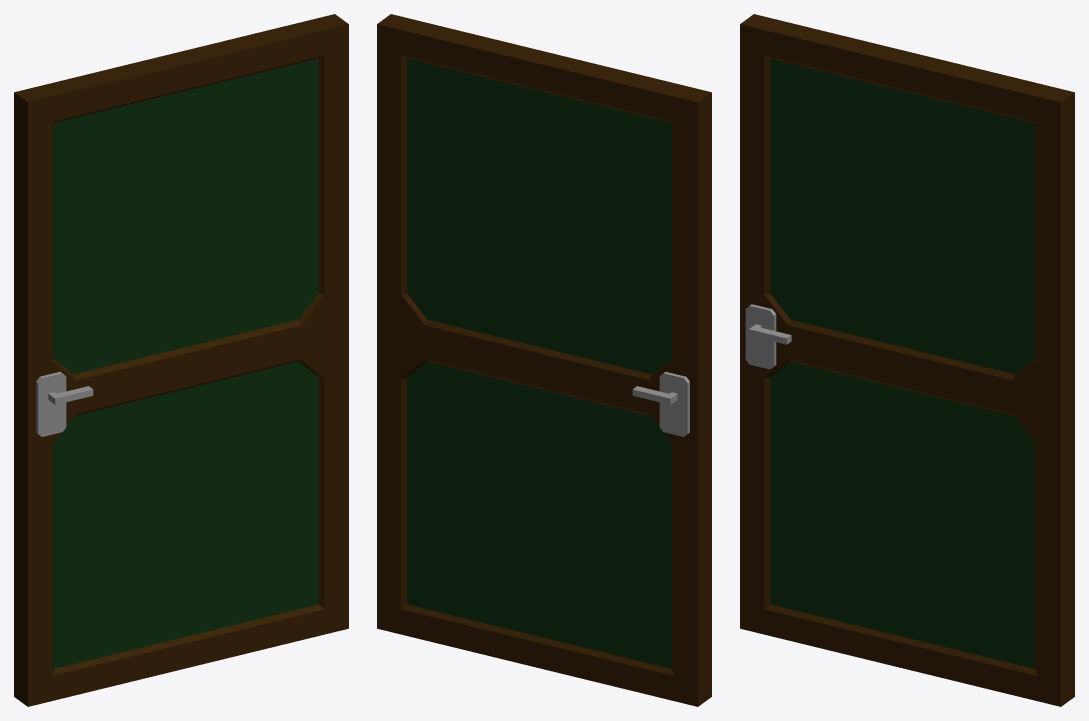
Rendered from Classic_Door_01_snaps001.fbx.
The picture shows the model from 3 angles, left to right: view 1: azimuth 30°, elevation 25°; view 2: azimuth 150°, elevation 25°; view 3: azimuth 330°, elevation 25°; orthographic projection.
Visible parts, largest first — view 1: Classic_Door_01_snaps001_frag_019, Classic_Door_01_snaps001_frag_012, Classic_Door_01_snaps001_frag_014, Classic_Door_01_snaps001_frag_021, Classic_Door_01_snaps001_frag_016, Classic_Door_01_snaps001_frag_023, Classic_Door_01_snaps001_frag_022, Classic_Door_01_snaps001_frag_010, Classic_Door_01_snaps001_frag_017, Classic_Door_01_snaps001_frag_015, Classic_Door_01_snaps001_frag_028, Classic_Door_01_snaps001_frag_009 (+1 smaller); view 2: Classic_Door_01_snaps001_frag_023, Classic_Door_01_snaps001_frag_028, Classic_Door_01_snaps001_frag_027, Classic_Door_01_snaps001_frag_019, Classic_Door_01_snaps001_frag_026, Classic_Door_01_snaps001_frag_029, Classic_Door_01_snaps001_frag_031, Classic_Door_01_snaps001_frag_001, Classic_Door_01_snaps001_frag_032, Classic_Door_01_snaps001_frag_017, Classic_Door_01_snaps001_frag_012, Classic_Door_01_snaps001_frag_014; view 3: Classic_Door_01_snaps001_frag_019, Classic_Door_01_snaps001_frag_012, Classic_Door_01_snaps001_frag_014, Classic_Door_01_snaps001_frag_021, Classic_Door_01_snaps001_frag_016, Classic_Door_01_snaps001_frag_023, Classic_Door_01_snaps001_frag_022, Classic_Door_01_snaps001_frag_010, Classic_Door_01_snaps001_frag_015, Classic_Door_01_snaps001_frag_017, Classic_Door_01_snaps001_frag_028, Classic_Door_01_snaps001_frag_009 (+2 smaller).
Part boxes in pixels (x1,y1,x2,y2): Classic_Door_01_snaps001_frag_019: (15,16,348,703); Classic_Door_01_snaps001_frag_012: (24,23,348,303); Classic_Door_01_snaps001_frag_014: (22,225,348,614); Classic_Door_01_snaps001_frag_021: (22,87,170,224); Classic_Door_01_snaps001_frag_016: (208,513,348,662); Classic_Door_01_snaps001_frag_023: (14,15,337,699); Classic_Door_01_snaps001_frag_022: (220,303,310,399); Classic_Door_01_snaps001_frag_010: (146,332,270,383); Classic_Door_01_snaps001_frag_017: (18,79,120,156); Classic_Door_01_snaps001_frag_015: (24,624,70,706); Classic_Door_01_snaps001_frag_028: (14,14,336,148); Classic_Door_01_snaps001_frag_009: (36,371,66,436); Classic_Door_01_snaps001_frag_023: (377,22,708,706); Classic_Door_01_snaps001_frag_028: (377,22,702,260); Classic_Door_01_snaps001_frag_027: (377,262,528,665); Classic_Door_01_snaps001_frag_019: (380,15,711,702); Classic_Door_01_snaps001_frag_026: (387,24,639,304); Classic_Door_01_snaps001_frag_029: (672,544,701,646); Classic_Door_01_snaps001_frag_031: (507,588,593,681); Classic_Door_01_snaps001_frag_001: (659,371,689,436); Classic_Door_01_snaps001_frag_032: (460,543,509,602); Classic_Door_01_snaps001_frag_017: (619,70,711,150); Classic_Door_01_snaps001_frag_012: (390,14,711,279); Classic_Door_01_snaps001_frag_014: (706,450,711,603); Classic_Door_01_snaps001_frag_019: (740,49,1072,696); Classic_Door_01_snaps001_frag_012: (740,43,1068,285); Classic_Door_01_snaps001_frag_014: (740,302,1062,543); Classic_Door_01_snaps001_frag_021: (740,58,887,165); Classic_Door_01_snaps001_frag_016: (921,591,1070,706); Classic_Door_01_snaps001_frag_023: (770,23,1074,699); Classic_Door_01_snaps001_frag_022: (937,332,1027,432); Classic_Door_01_snaps001_frag_010: (858,347,982,400); Classic_Door_01_snaps001_frag_015: (740,545,782,638); Classic_Door_01_snaps001_frag_017: (740,18,834,67); Classic_Door_01_snaps001_frag_028: (752,14,1074,109); Classic_Door_01_snaps001_frag_009: (745,304,776,367).
Size of the model in its own units: 49.21 by 88.58 by 8.61.
